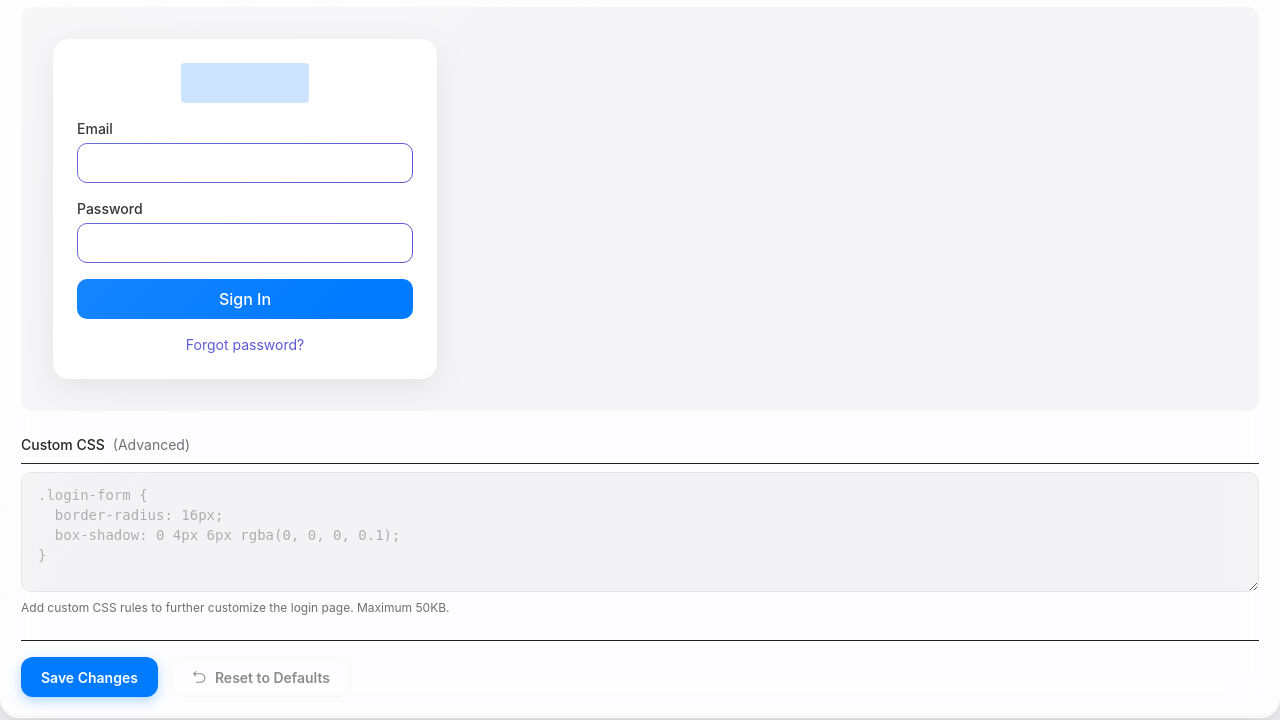
Test: Branding Settings Page › displays success message after saving
(page scrolled)
Click the button "Save Changes": (89, 677) [21, 657, 158, 697]
(page scrolled)
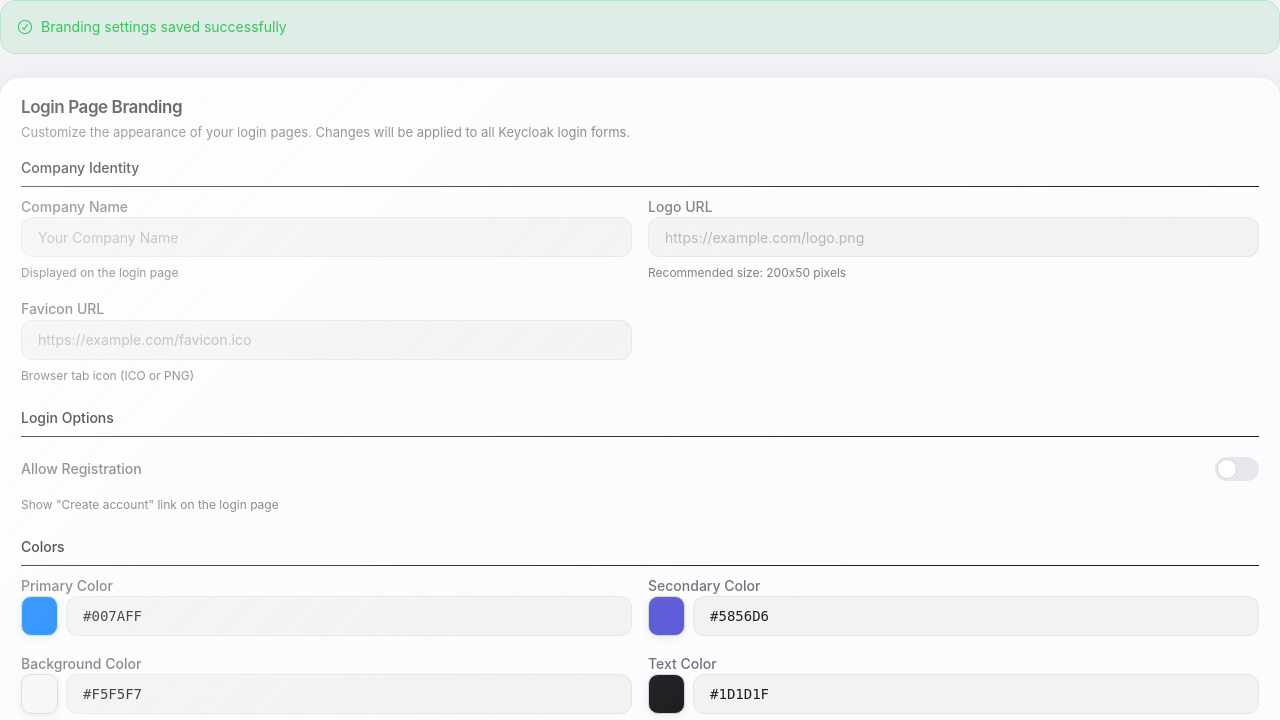
Expected: the text "Branding settings saved successfully" is shown, [0, 0, 1279, 54]
